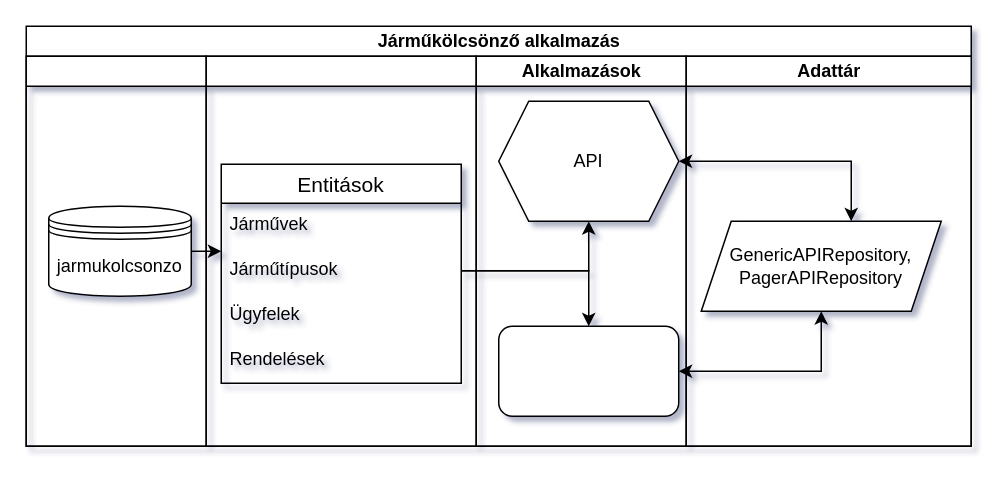
This 1007x482 diagram has some shape labels left out. Each missing label, with the box of its shape:
Adatbázis: (25, 55, 206, 446)
Model: (205, 55, 476, 446)
WPF: (497, 325, 679, 416)
